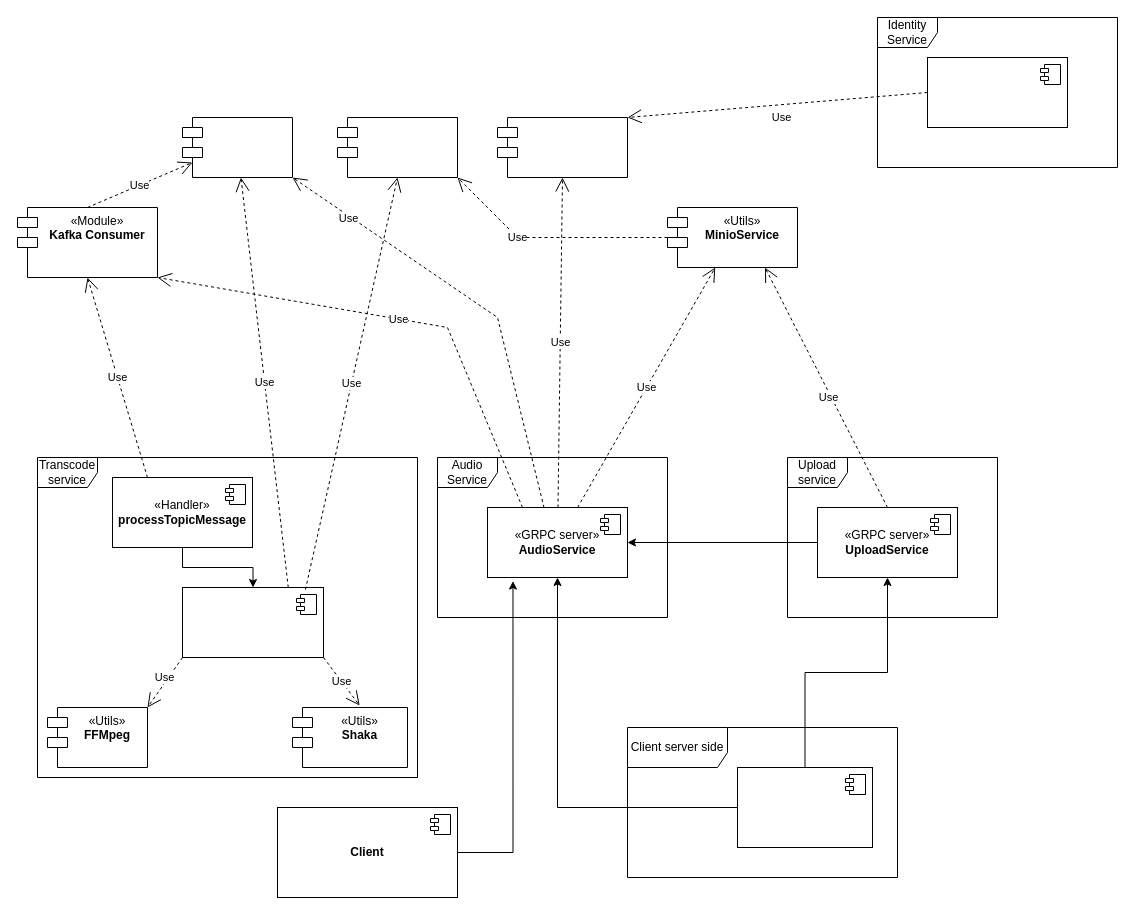
The diagram is 1135 pixels wide and 915 high, and some of its shapes have lost their labels. The shapes that lost their labels are listed below. From the top down, each one's box as (x1, y1, x2, y2) in pixels, then its label:
(926, 56, 1068, 128): «GRPC server» IdentityService
(182, 116, 292, 178): «Lib» Kafka client
(336, 116, 458, 178): «Lib» Minio client
(496, 116, 628, 178): «Lib» Database client
(182, 586, 324, 658): TranscodeService
(736, 766, 872, 848): «HTTP handler» POST method
